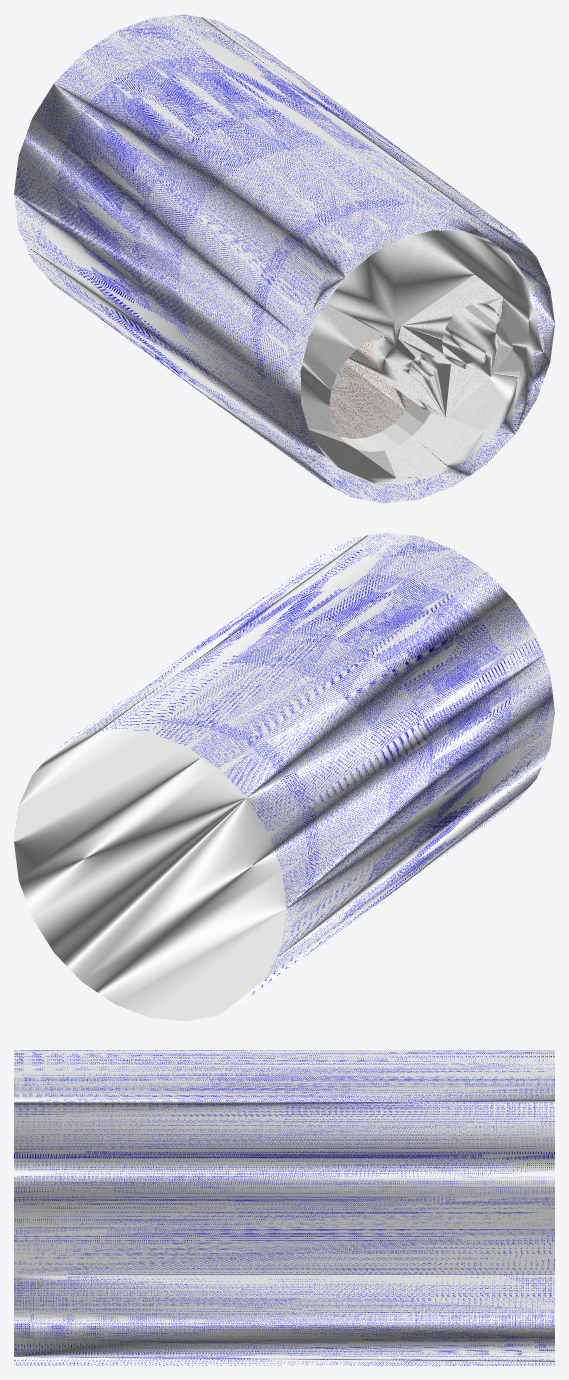
The model's file is model_align.obj.
3 views of the same model, one above another, from view 1: azimuth 30°, elevation 25°; view 2: azimuth 150°, elevation 25°; view 3: azimuth 270°, elevation 25° (orthographic).
Size of the model in its own units: 0.0622 by 0.0616 by 0.1051.
